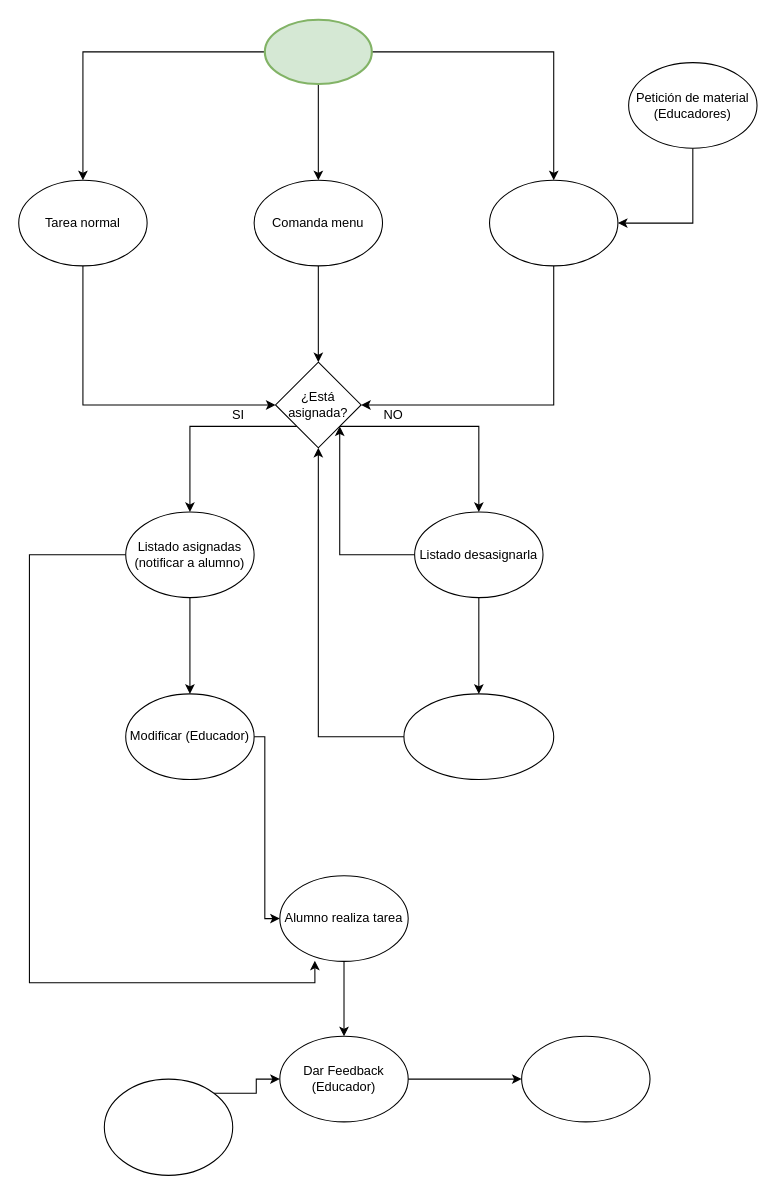
The diagram is 776 pixels wide and 1194 high, and some of its shapes have lost their labels. The centre of each missing label's shape, as x and y in pixels:
Comanda material: point (553, 222)
Crear tarea (Administrador): point (317, 51)
Listado de Feedback: point (168, 1126)
Listado tareas evaluadas: point (585, 1078)
Modificar (Adminitrador): point (478, 736)
